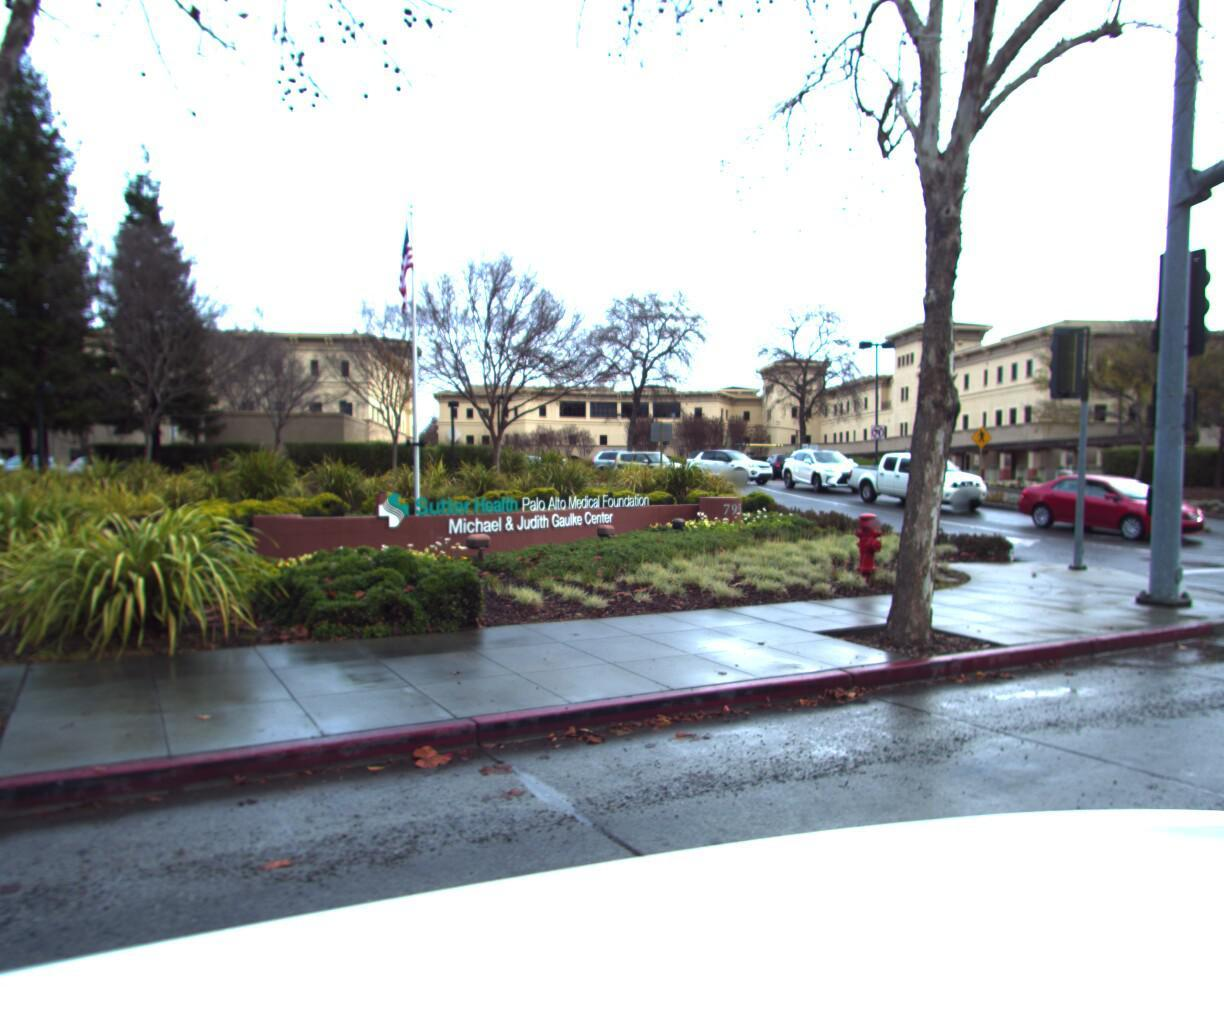car: (1008, 471, 1224, 541), (843, 450, 1007, 511), (779, 449, 886, 492), (684, 450, 789, 485)
